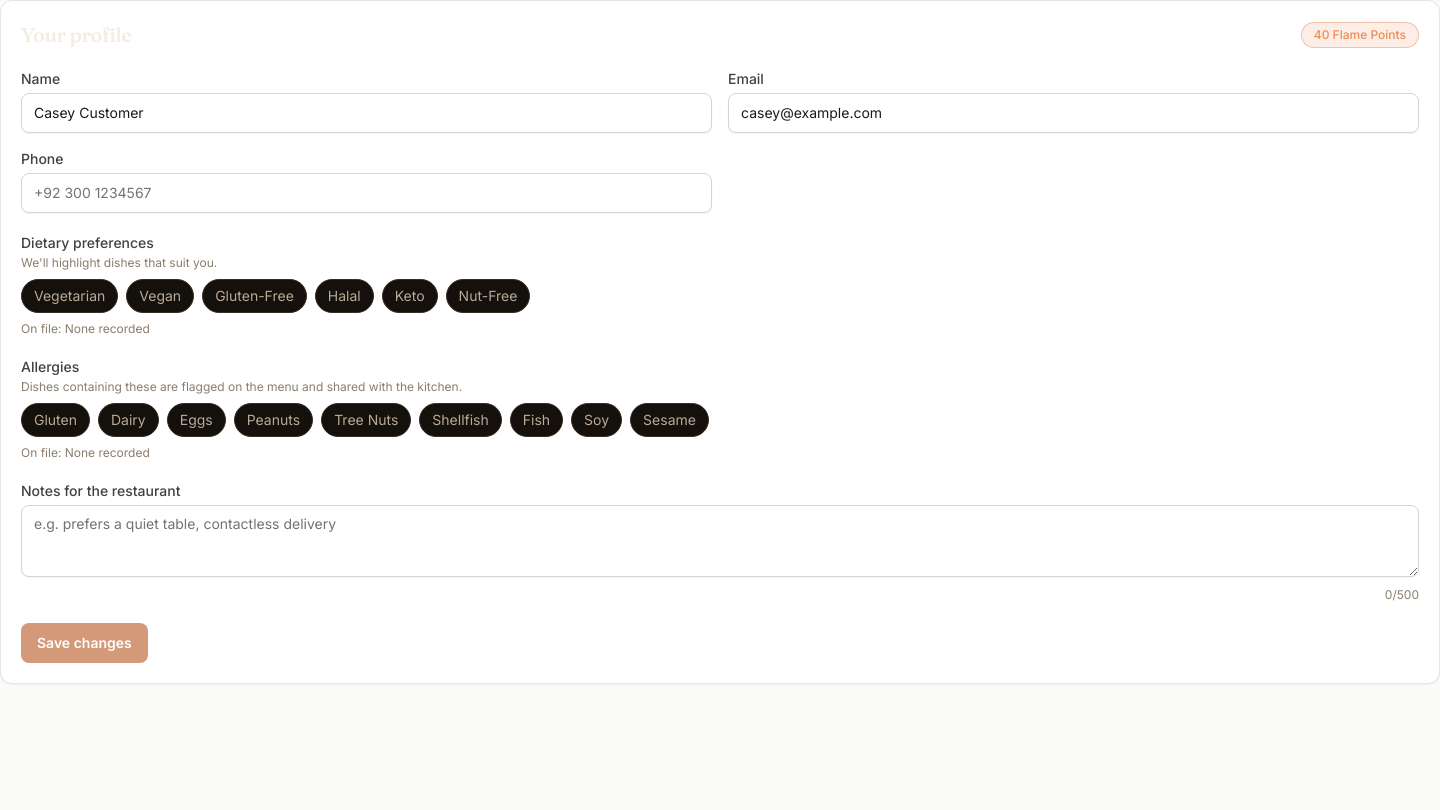
Test: ProfileEditor › saves trimmed details and preferences, then reports success
Replace the text in the field labelled "Name" with "  Casey C.  " at point(366, 113), box [21,93,712,133]
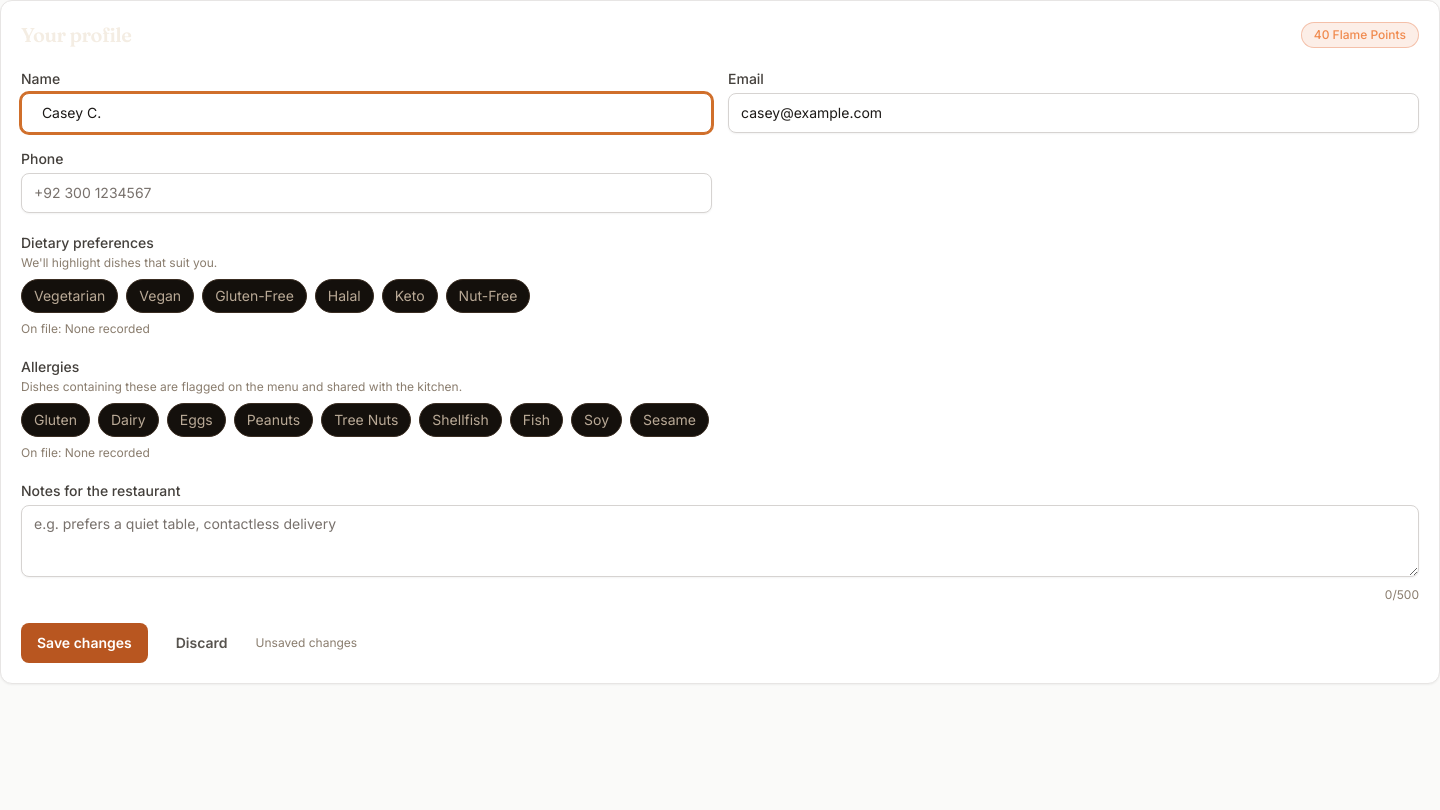
Click the button "Save changes" at point(84, 643), box [21,623,148,663]
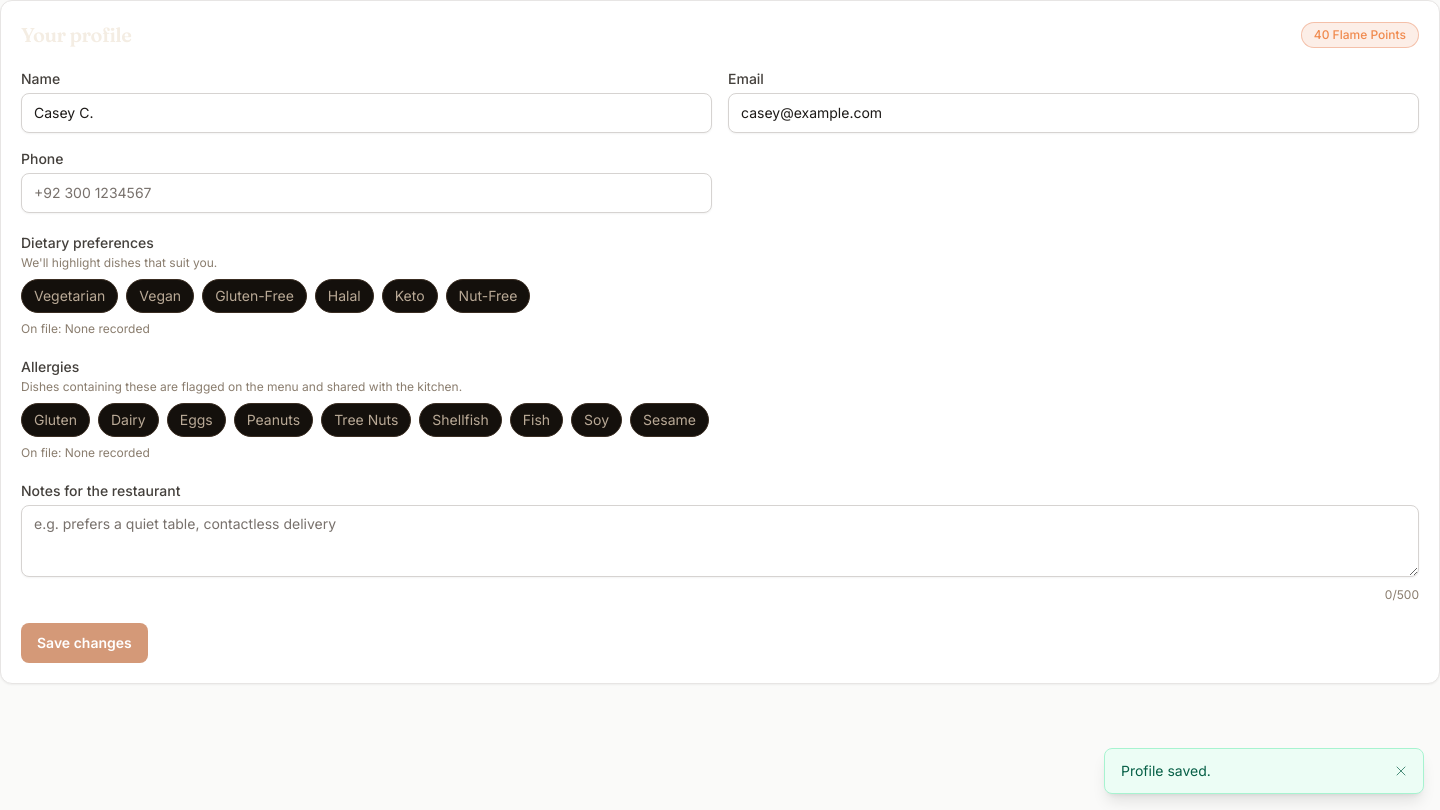
expect the text "Profile saved." is shown: met, box [1121,762,1211,779]
expect the text "Unsaved changes" is gone: met
